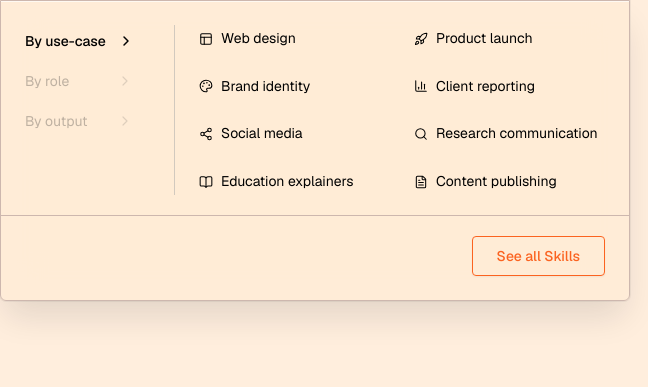
Scenario: CategoriesDropdown Component › switches to By role tab when clicked (Node 750:3539 / Component 216)
What coordinates should you click on to do the following:
click the tab "By role"
I would click on:
 (80, 81)
Its box is [17,65,142,97].
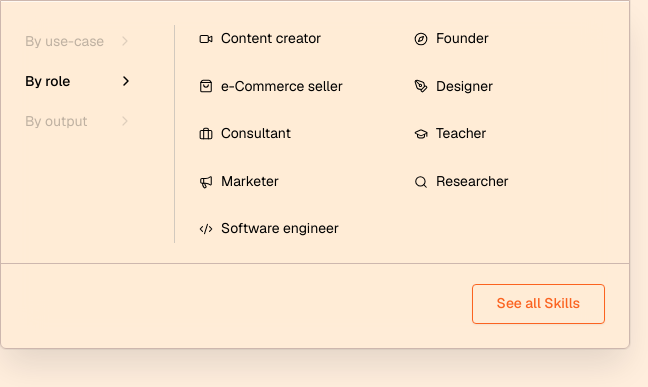
Check: the text "Content creator" is shown, box [221,29,321,49]
Check: the text "Software engineer" is shown, box [221,219,339,239]
Check: the text "Founder" is shown, box [436,29,489,49]
